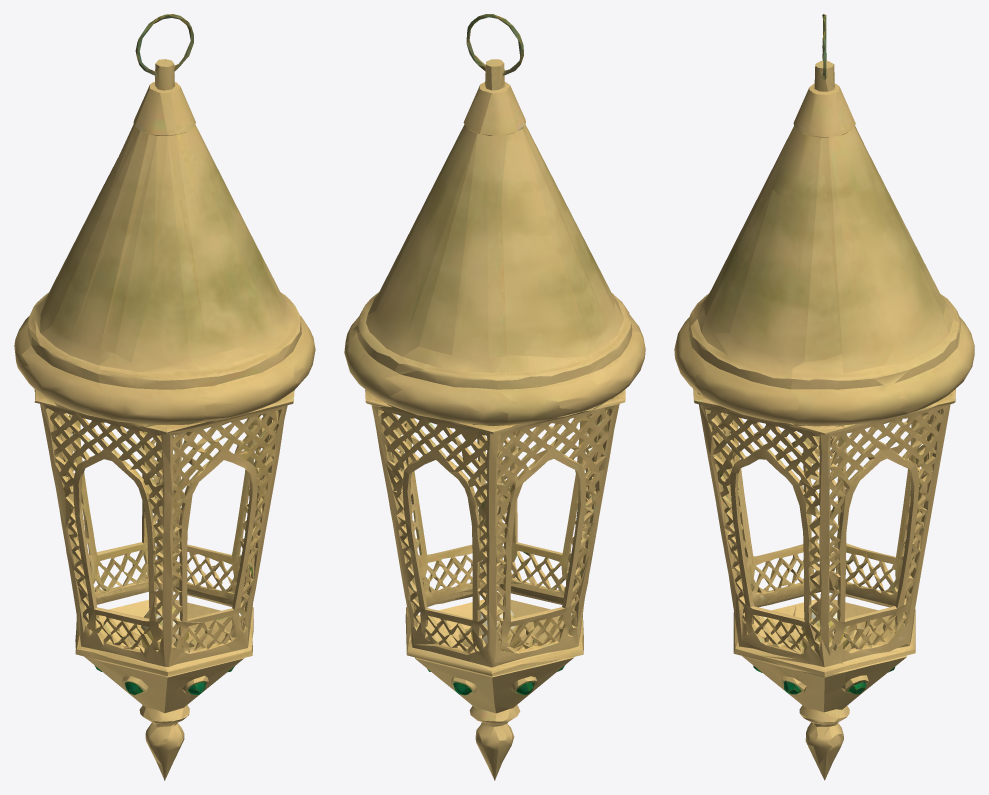
Rendered from et_ceilinglamp.glb.
The picture shows the model from 3 angles, left to right: view 1: azimuth 30°, elevation 25°; view 2: azimuth 150°, elevation 25°; view 3: azimuth 270°, elevation 25°; orthographic projection.
Bounding box in the file's own units: 0.676 × 1.9 × 0.676.
Materials: 1 (1 with a texture image).
